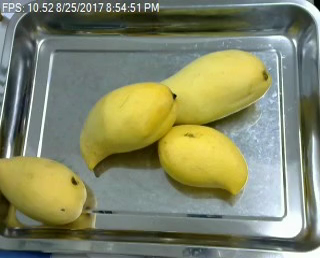Mango: (77, 80, 178, 171), (152, 49, 269, 124), (155, 124, 250, 197), (0, 154, 87, 227)
